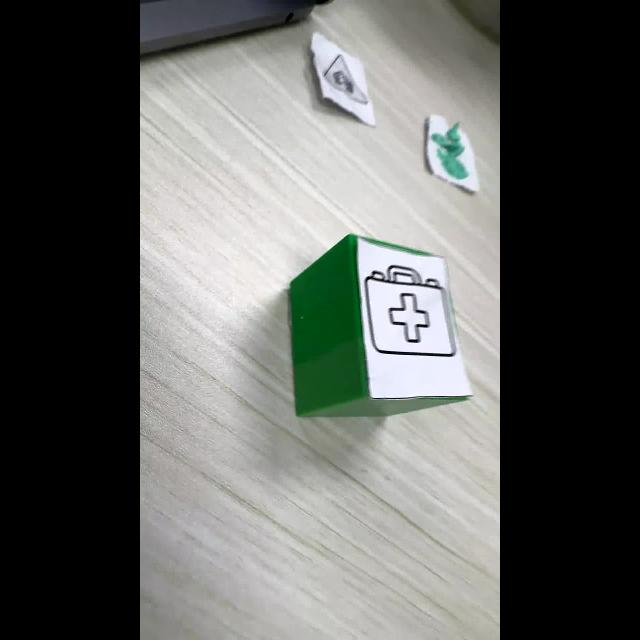Medkit: (365, 265, 456, 357)
